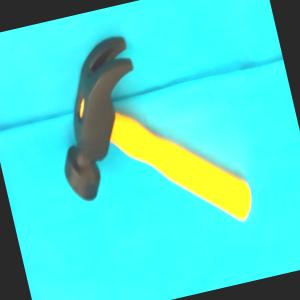martelo: (36, 12, 256, 256)
